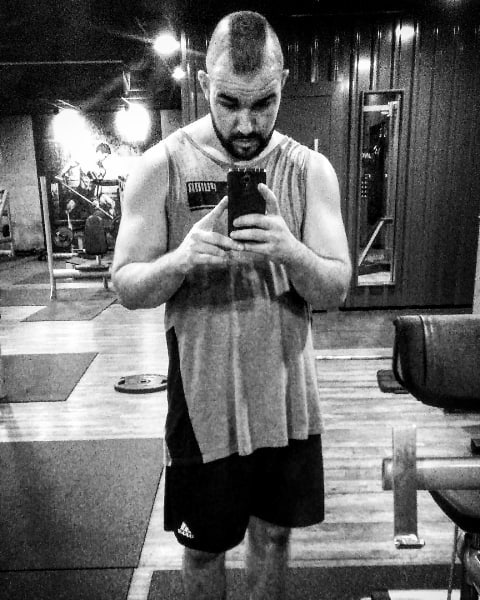adidas_1: (164, 513, 210, 554)
